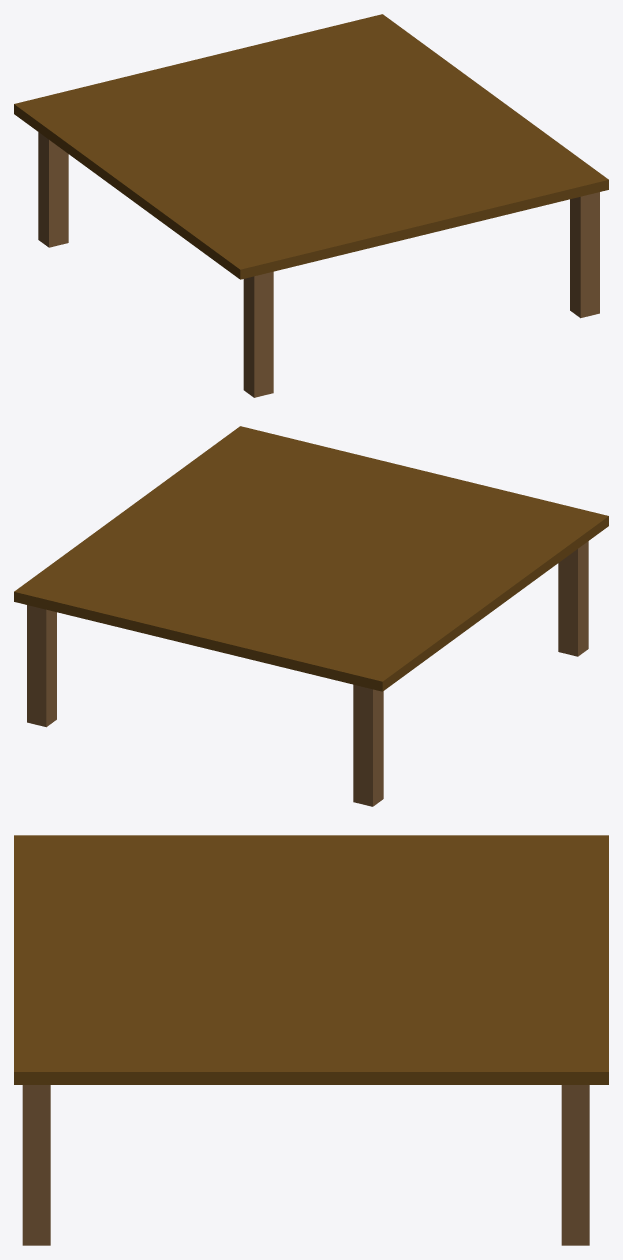
File: arm3_table.glb
3 views of the same model, one above another, from view 1: azimuth 30°, elevation 25°; view 2: azimuth 150°, elevation 25°; view 3: azimuth 270°, elevation 25° (orthographic). The views are drawn at different scales.
Visible parts, largest first — view 1: Cube.001; view 2: Cube.001; view 3: Cube.001.
Part boxes in pixels (left/top/right/bottom): Cube.001: left=14, top=14, right=608, bottom=397; Cube.001: left=14, top=426, right=608, bottom=806; Cube.001: left=14, top=835, right=608, bottom=1245.
Bounding box in the file's own units: 0.8174 × 0.2855 × 0.8693.
